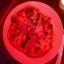pizza: (9, 6, 53, 56)
